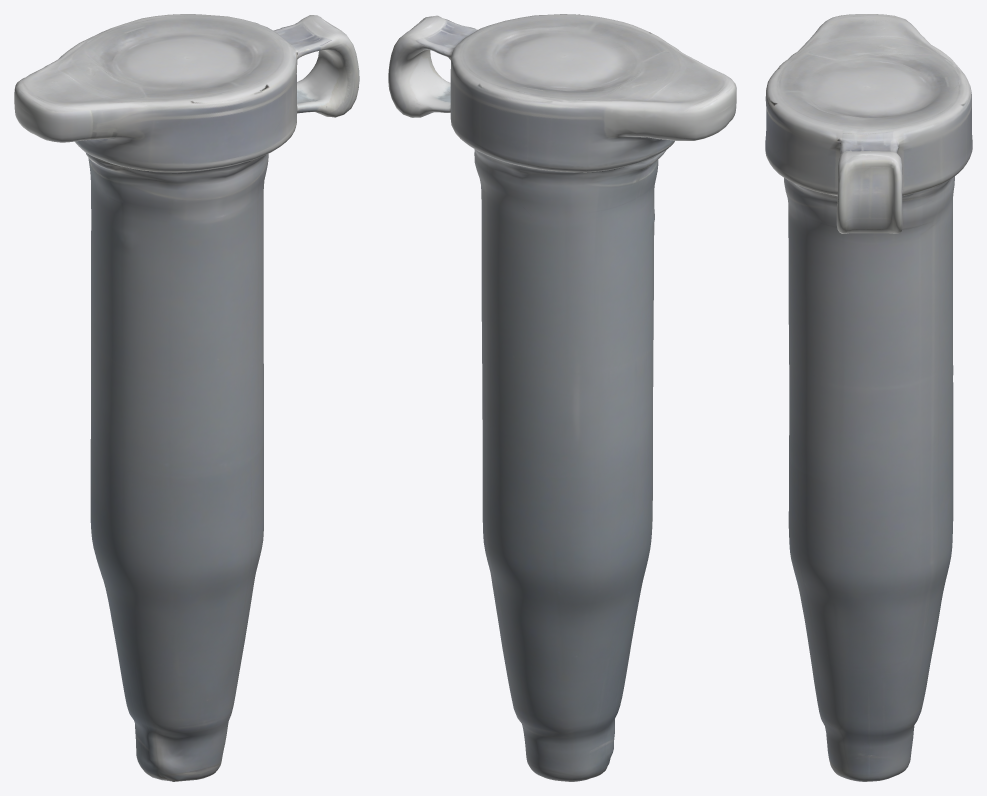
File: Microcentrifuge_Tube_0813063215_texture.fbx
3 views of the same model, side by side, from view 1: azimuth 30°, elevation 25°; view 2: azimuth 150°, elevation 25°; view 3: azimuth 270°, elevation 25° (orthographic). The views are drawn at different scales.
Parts seen in each view (by area): view 1: input; view 2: input; view 3: input.
Part boxes in pixels (x1,y1,x2,y2): input: [14, 14, 359, 781]; input: [388, 14, 736, 781]; input: [765, 14, 972, 781].
Size of the model in its own units: 94.21 by 199 by 54.83.
1 material, 1 textured.
